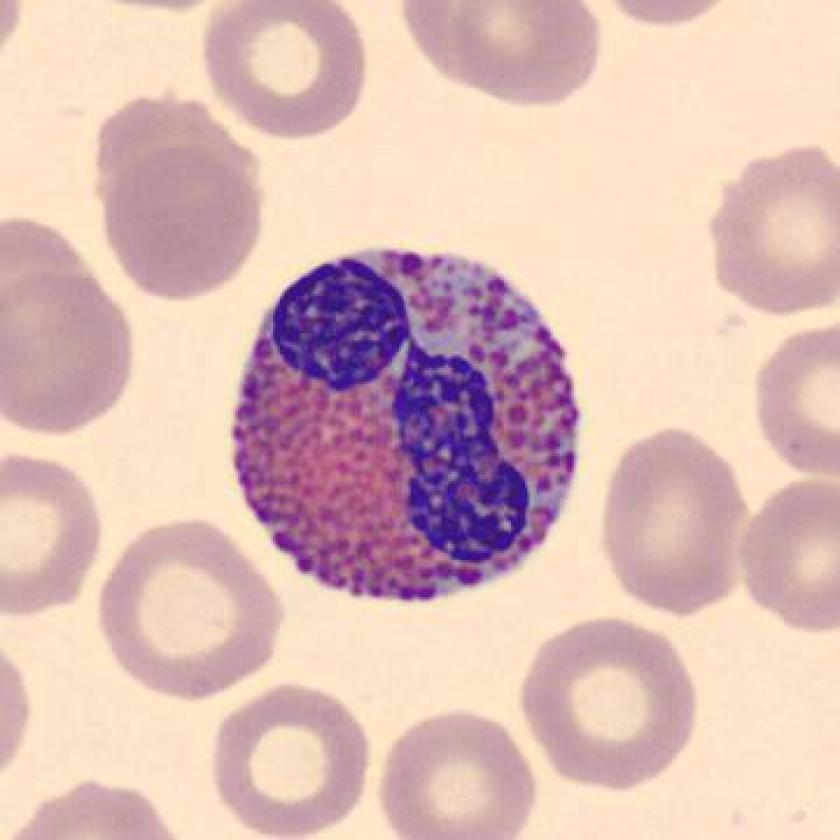eosinophil: (223, 230, 601, 617)
